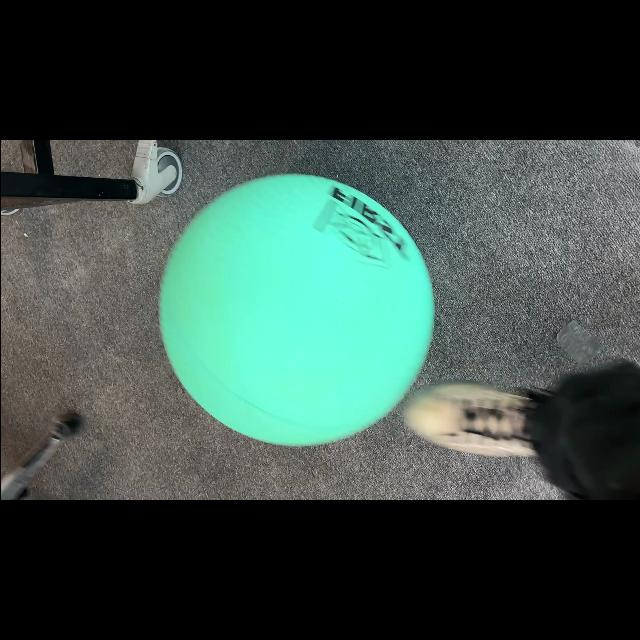ALGAE: (157, 172, 435, 448)
